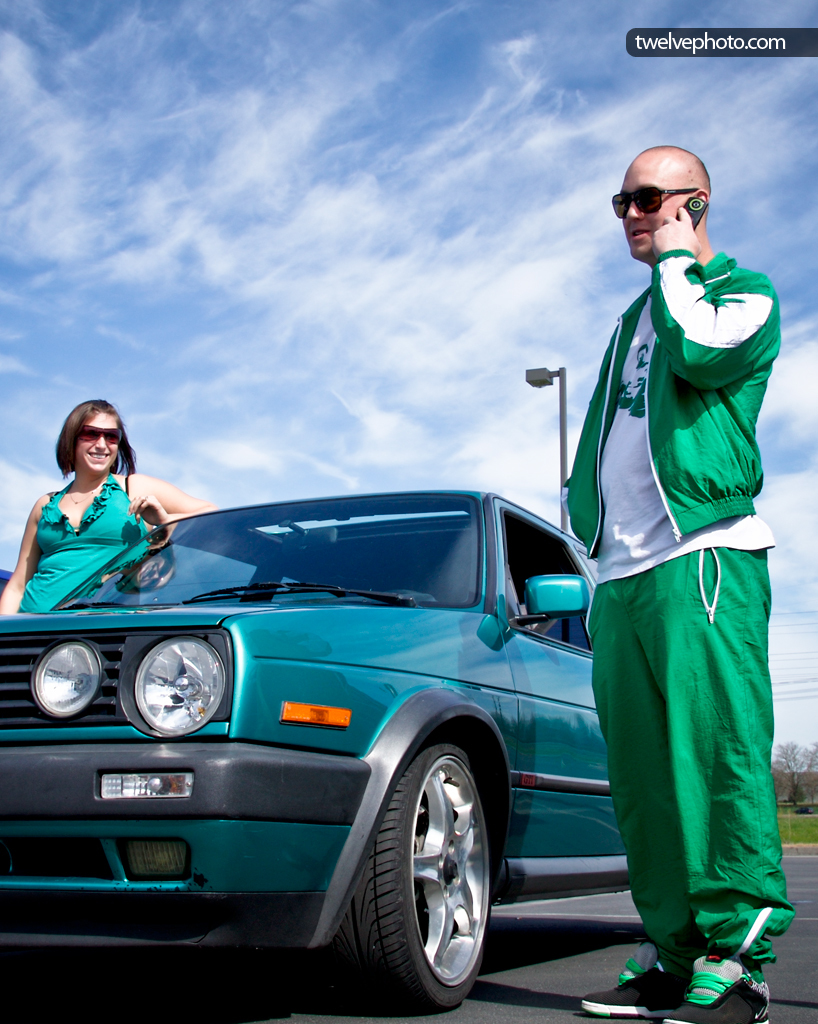Footwear: (579, 940, 689, 1013), (670, 955, 774, 1023)
